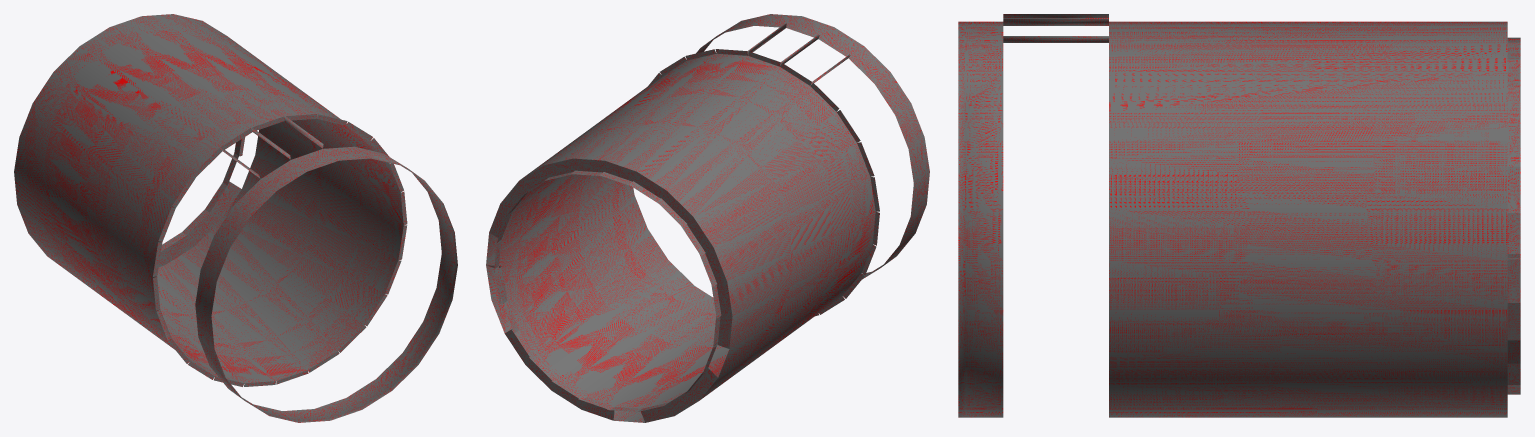
The model's file is original-79.obj.
3 renders of one model, left to right at view 1: azimuth 30°, elevation 25°; view 2: azimuth 150°, elevation 25°; view 3: azimuth 270°, elevation 25°, orthographic. The views are drawn at different scales.
Visible parts, largest first — view 1: mesh50/mesh50-geometry/material_0#mesh50-geometry; view 2: mesh50/mesh50-geometry/material_0#mesh50-geometry; view 3: mesh50/mesh50-geometry/material_0#mesh50-geometry.
Boxes of the visible parts, x1,y1,x2,y2 form: mesh50/mesh50-geometry/material_0#mesh50-geometry: [14, 14, 457, 422]; mesh50/mesh50-geometry/material_0#mesh50-geometry: [486, 14, 929, 422]; mesh50/mesh50-geometry/material_0#mesh50-geometry: [958, 14, 1520, 417].
Size of the model in its own units: 0.6693 by 0.6694 by 0.9204.
